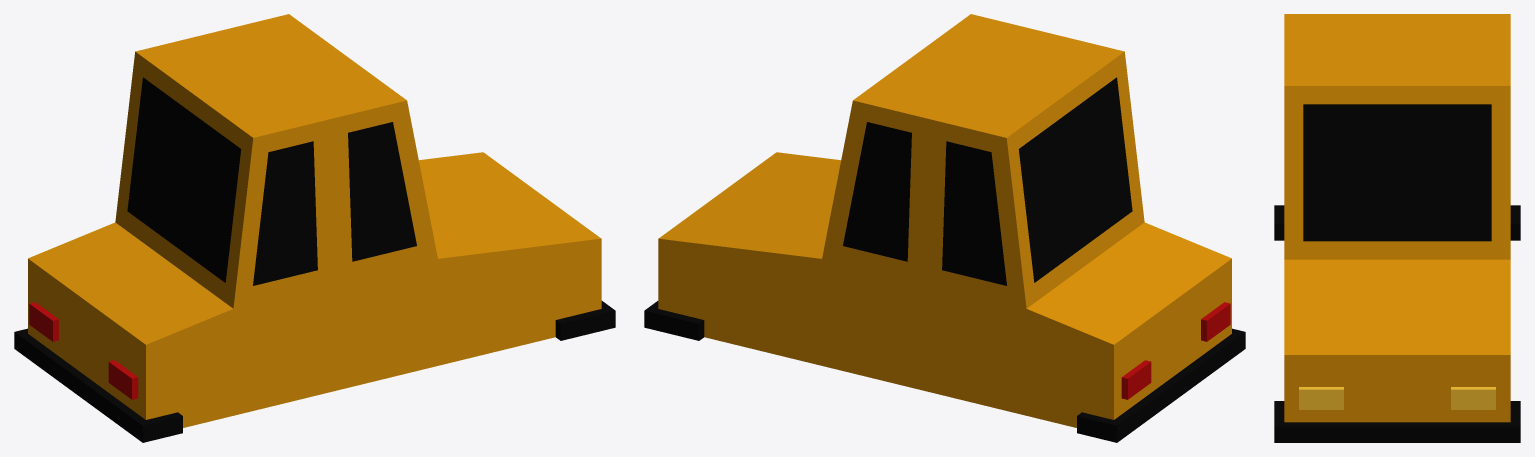
The model's file is CityCar_Sedan_03.fbx.
3 views of the same model, side by side, from view 1: azimuth 30°, elevation 25°; view 2: azimuth 150°, elevation 25°; view 3: azimuth 270°, elevation 25° (orthographic). The views are drawn at different scales.
Parts seen in each view (by area): view 1: CityCar_Sedan_03; view 2: CityCar_Sedan_03; view 3: CityCar_Sedan_03.
Boxes of the visible parts, x1,y1,x2,y2 form: CityCar_Sedan_03: (14,14,615,442); CityCar_Sedan_03: (644,14,1245,442); CityCar_Sedan_03: (1274,14,1520,442).
Size of the model in its own units: 0.4902 by 0.2706 by 0.2307.
